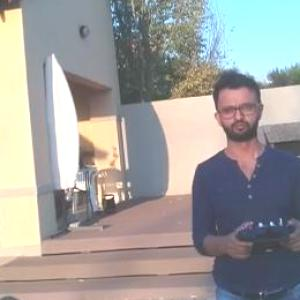follow: (184, 68, 299, 299)
